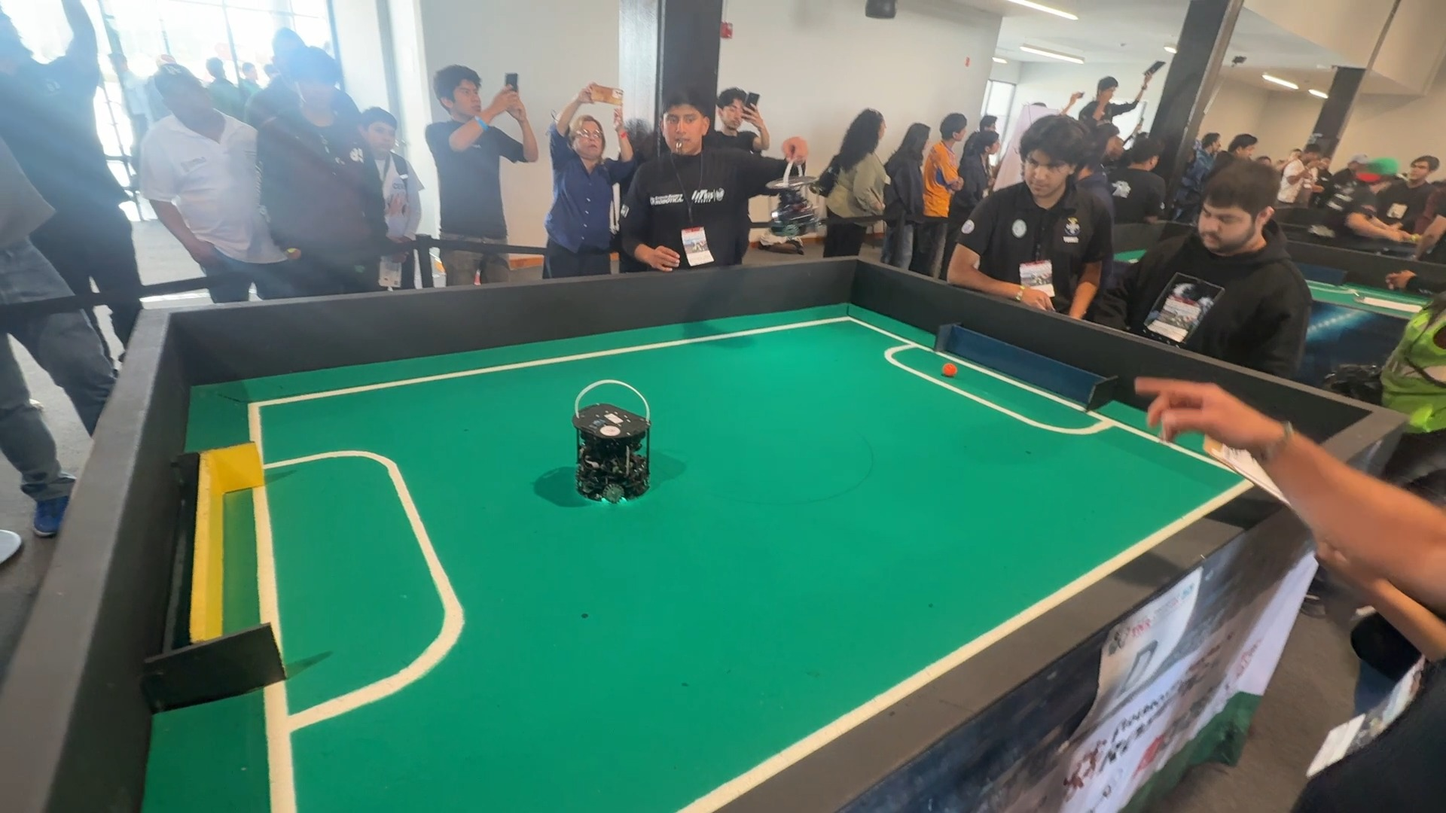Robot: (542, 379, 682, 523)
pelota: (939, 363, 964, 379)
